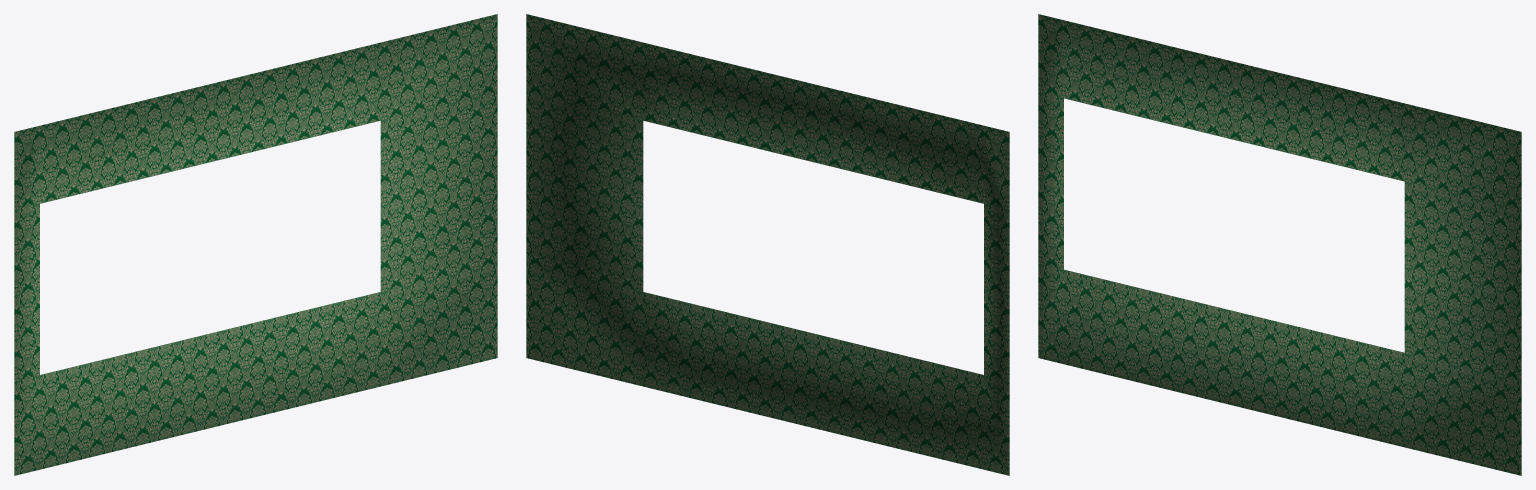
Rendered from ParedeComBuraco.fbx.
3 views of the same model, side by side, from view 1: azimuth 30°, elevation 25°; view 2: azimuth 150°, elevation 25°; view 3: azimuth 330°, elevation 25° (orthographic).
Parts seen in each view (by area): view 1: ParedesEscritorio.001; view 2: ParedesEscritorio.001; view 3: ParedesEscritorio.001.
Part boxes in pixels (box(x1,y1,x2,y2)): ParedesEscritorio.001: box(14, 14, 497, 475); ParedesEscritorio.001: box(526, 14, 1009, 475); ParedesEscritorio.001: box(1038, 14, 1521, 475).
Bounding box in the file's own units: 6 × 4.08 × 1.62e-06.
